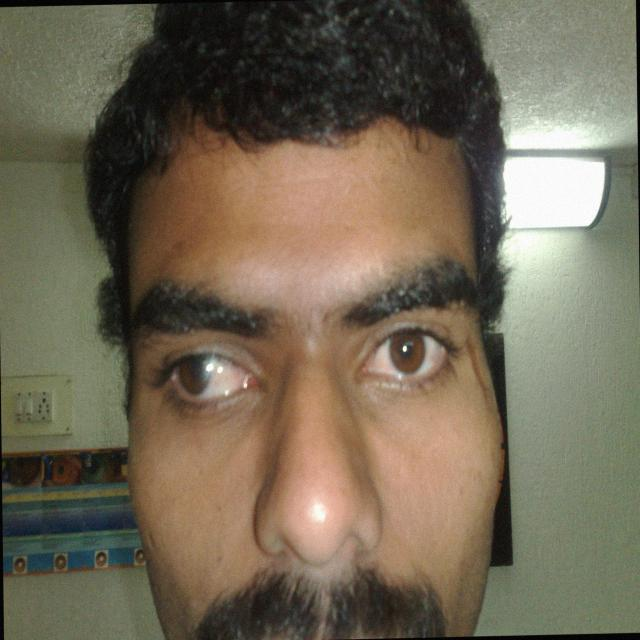Healthy-Eye: (358, 306, 465, 413)
Squint: (156, 314, 263, 430)
